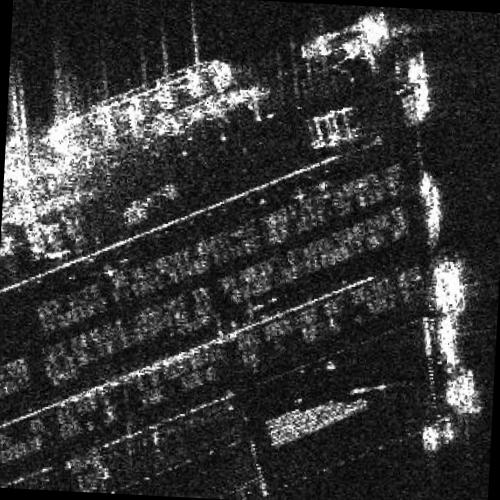ship: (39, 57, 233, 154), (301, 13, 390, 61)
